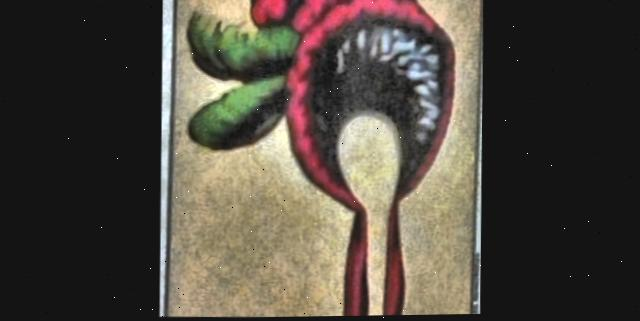El Gorrito: (166, 0, 481, 317)
